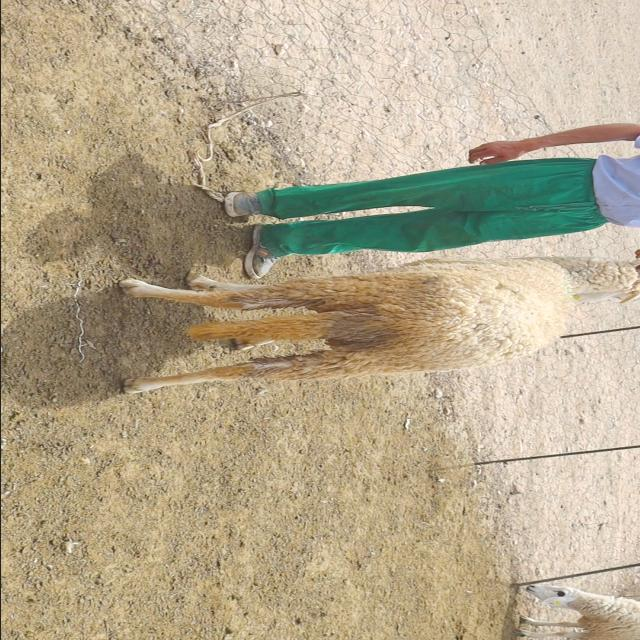Score_2: (119, 256, 640, 394)
